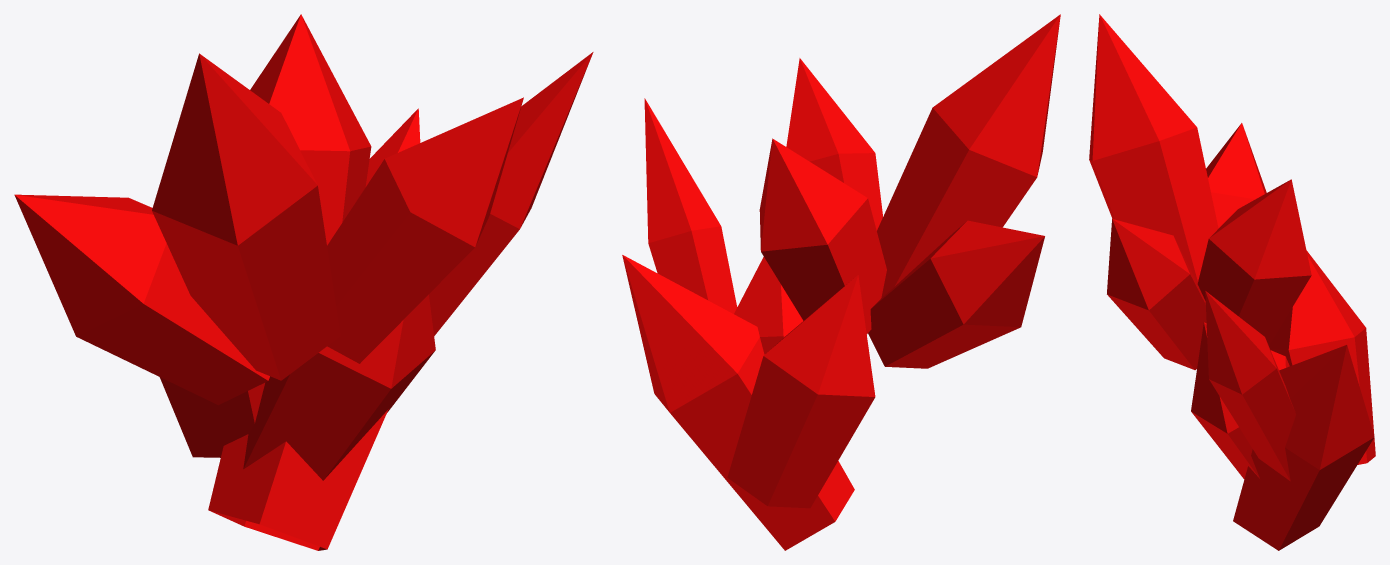
The model's file is assets_crystal-01.fbx.
3 renders of one model, left to right at view 1: azimuth 30°, elevation 25°; view 2: azimuth 150°, elevation 25°; view 3: azimuth 270°, elevation 25°, orthographic. The views are drawn at different scales.
Visible parts, largest first — view 1: Cylinder001, Cylinder007, Cylinder040, Cylinder044, Cylinder042, Cylinder008, Cylinder041, Cylinder043; view 2: Cylinder001, Cylinder043, Cylinder042, Cylinder007, Cylinder008, Cylinder041, Cylinder040, Cylinder044; view 3: Cylinder001, Cylinder042, Cylinder008, Cylinder040, Cylinder041, Cylinder043, Cylinder044, Cylinder007.
Boxes of the visible parts, x1,y1,x2,y2 form: Cylinder001: (152, 53, 340, 380); Cylinder007: (14, 194, 269, 405); Cylinder040: (327, 97, 523, 363); Cylinder044: (243, 294, 435, 480); Cylinder042: (208, 108, 420, 550); Cylinder008: (250, 14, 371, 245); Cylinder041: (429, 52, 593, 335); Cylinder043: (159, 377, 264, 457); Cylinder001: (877, 14, 1060, 297); Cylinder043: (727, 275, 875, 508); Cylinder042: (622, 255, 854, 550); Cylinder007: (868, 220, 1044, 368); Cylinder008: (759, 138, 886, 334); Cylinder041: (644, 98, 737, 313); Cylinder040: (786, 58, 882, 230); Cylinder044: (734, 257, 803, 354); Cylinder001: (1089, 14, 1218, 282); Cylinder042: (1233, 345, 1374, 550); Cylinder008: (1197, 179, 1311, 345); Cylinder040: (1107, 219, 1206, 369); Cylinder041: (1205, 291, 1295, 481); Cylinder043: (1269, 250, 1375, 464); Cylinder044: (1191, 322, 1289, 479); Cylinder007: (1206, 123, 1266, 227).
Size of the model in its own units: 0.5529 by 0.6238 by 0.3579.
